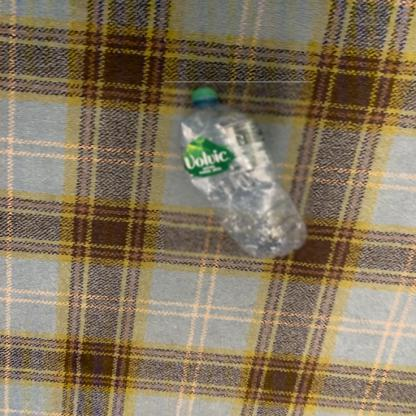plastic-bottles: (166, 82, 316, 261)
